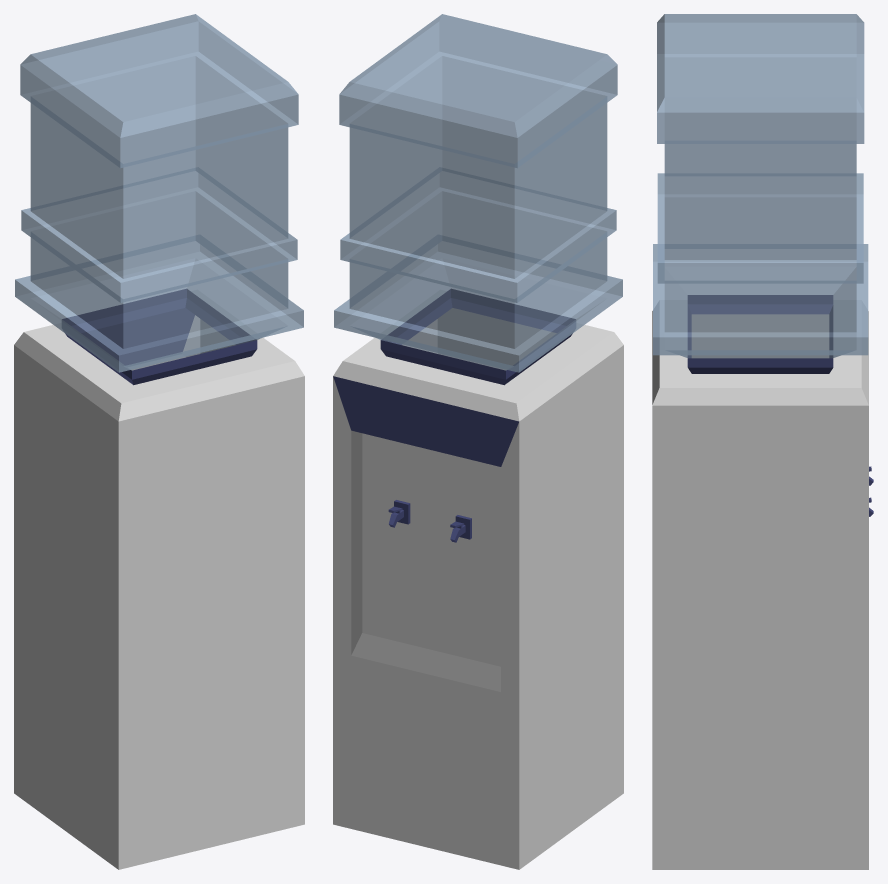
The model's file is Bebedouro.glb.
3 renders of one model, left to right at view 1: azimuth 30°, elevation 25°; view 2: azimuth 150°, elevation 25°; view 3: azimuth 270°, elevation 25°, orthographic. The views are drawn at different scales.
Visible parts, largest first — view 1: WaterFountain-convcol; view 2: WaterFountain-convcol; view 3: WaterFountain-convcol.
Boxes of the visible parts, box(x1,y1,x2,y2) form: WaterFountain-convcol: box(14, 14, 304, 869); WaterFountain-convcol: box(333, 14, 623, 869); WaterFountain-convcol: box(652, 14, 873, 869).
Size of the model in its own units: 0.4983 by 1.89 by 0.4955.
